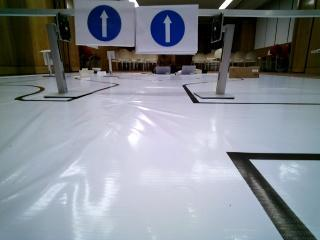straight: (76, 0, 137, 48), (139, 3, 197, 52)
